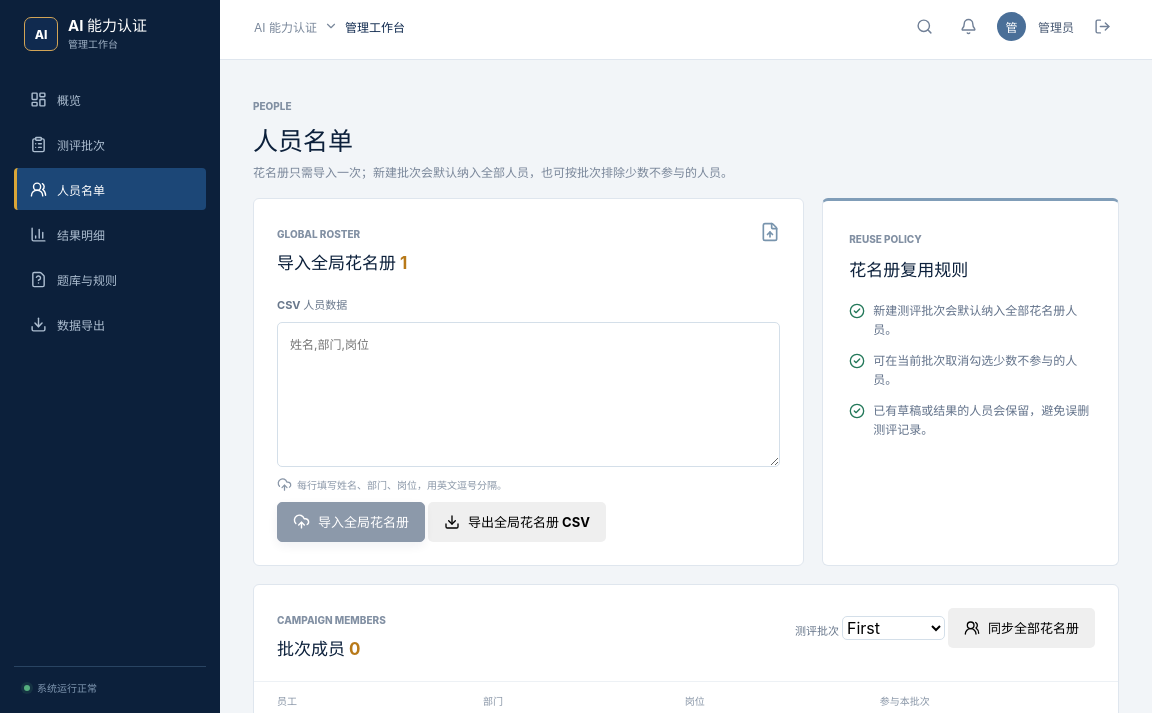
Scenario: administrator workspace › syncs a reusable roster into a campaign created before the roster
Click the button "同步全部花名册".
click(1022, 628)  # box [948,608,1095,648]
(page scrolled)
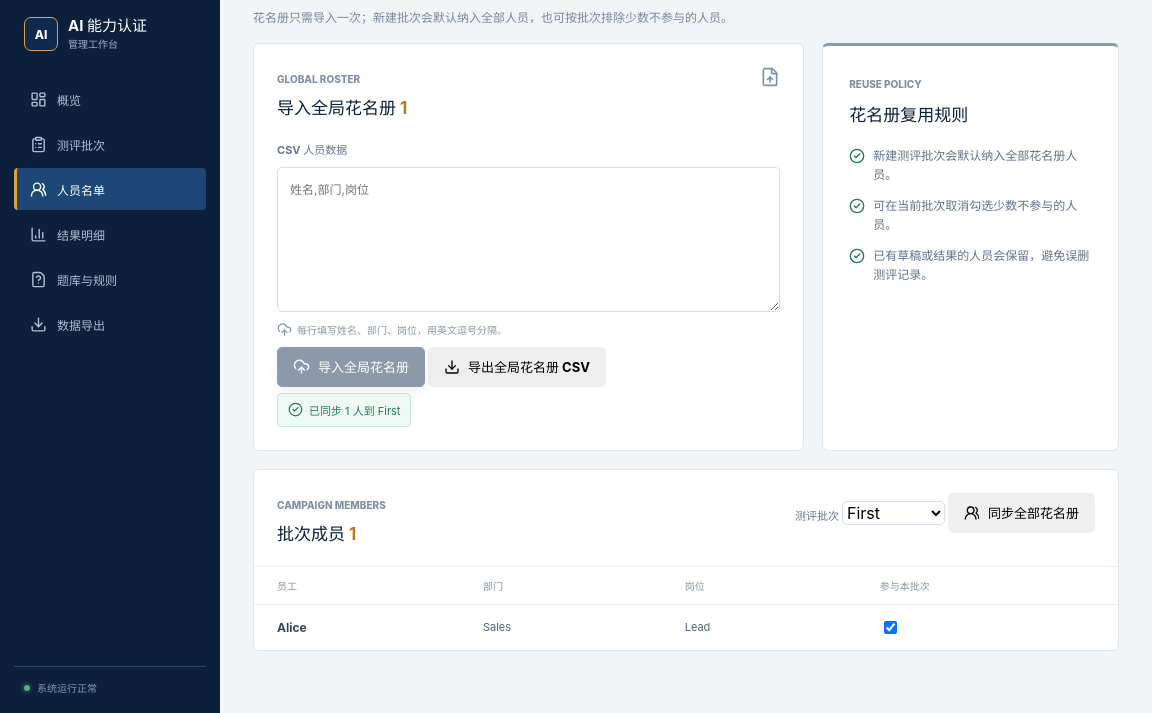
Expected: the checkbox named "Alice 参加 First" is checked, [884,621,897,634]
